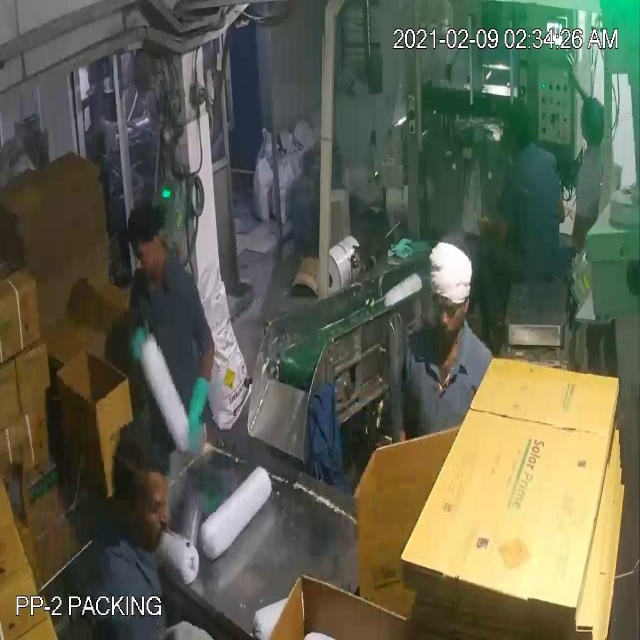Guantes: (168, 368, 214, 465), (123, 315, 171, 377)
